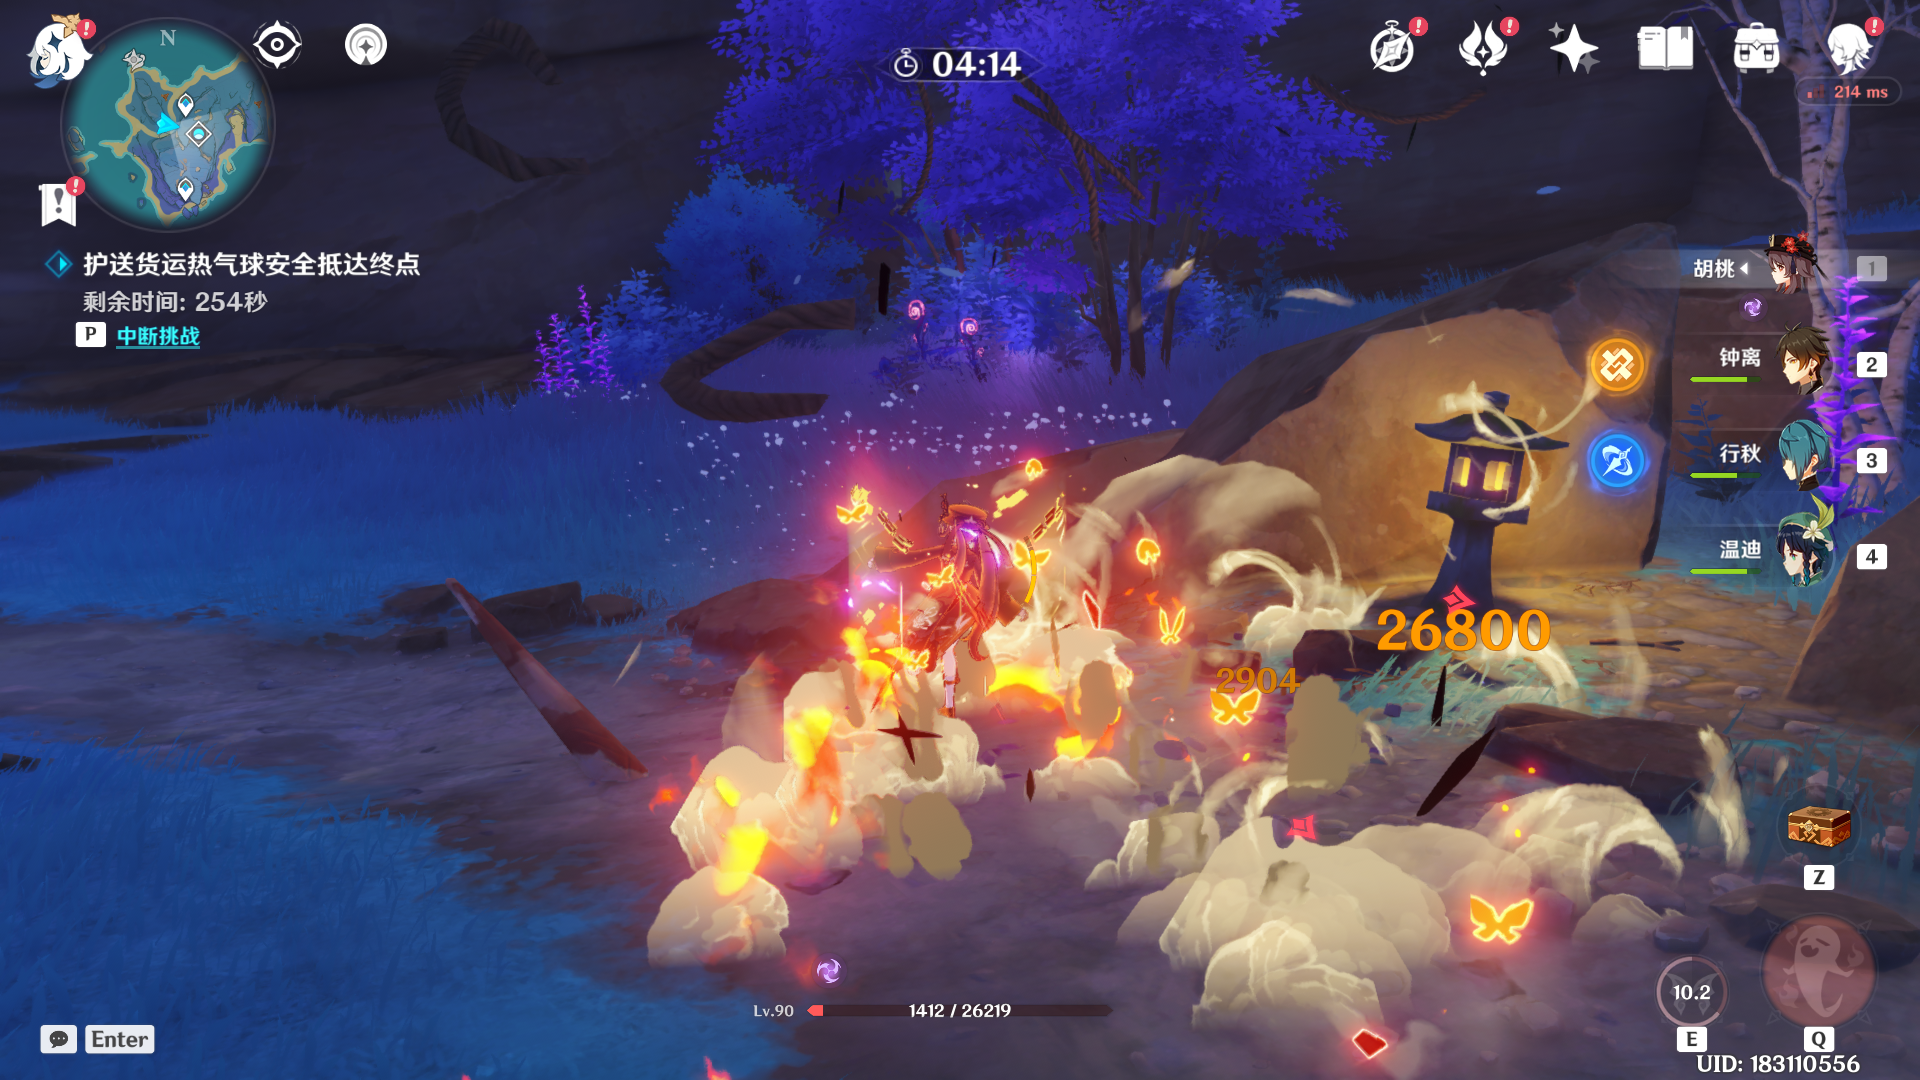character: (800, 473, 1116, 787)
